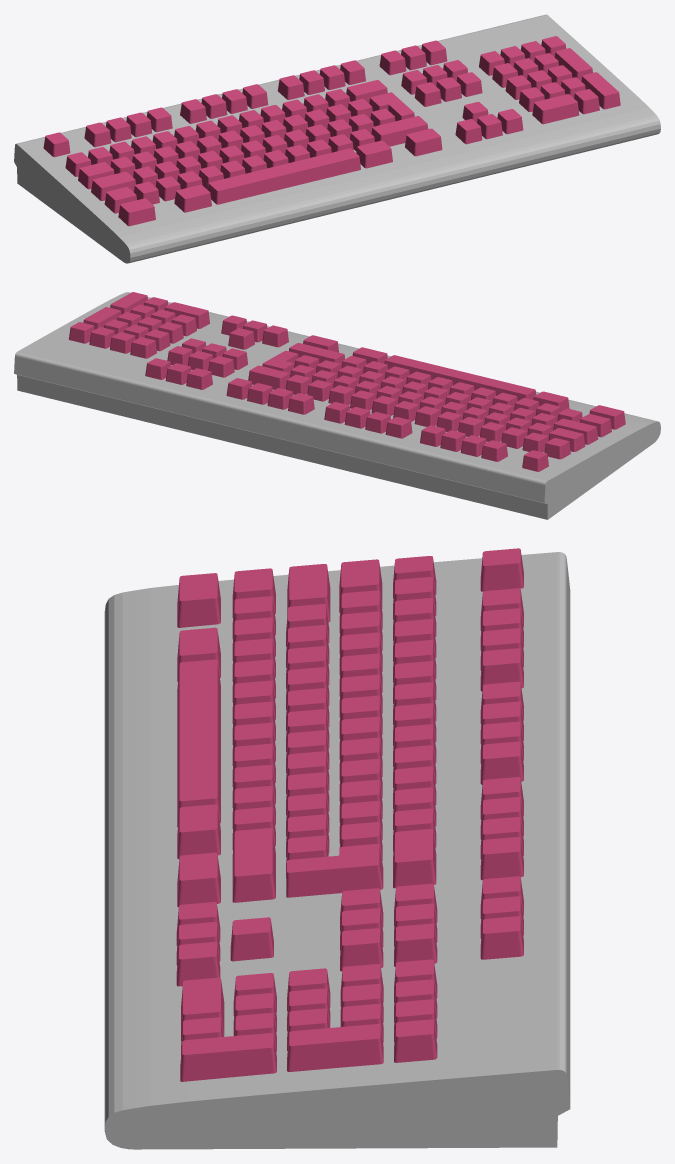
3 views of the same model, one above another, from view 1: azimuth 30°, elevation 25°; view 2: azimuth 150°, elevation 25°; view 3: azimuth 270°, elevation 25° (orthographic). The views are drawn at different scales.
Parts seen in each view (by area): view 1: pred_mesh_gc.ply; view 2: pred_mesh_gc.ply; view 3: pred_mesh_gc.ply.
Part boxes in pixels (<box>): pred_mesh_gc.ply: <box>14,14,660,263</box>; pred_mesh_gc.ply: <box>14,292,660,519</box>; pred_mesh_gc.ply: <box>104,548,570,1149</box>.
Size of the model in its own units: 0.9313 by 0.0852 by 0.3541.
